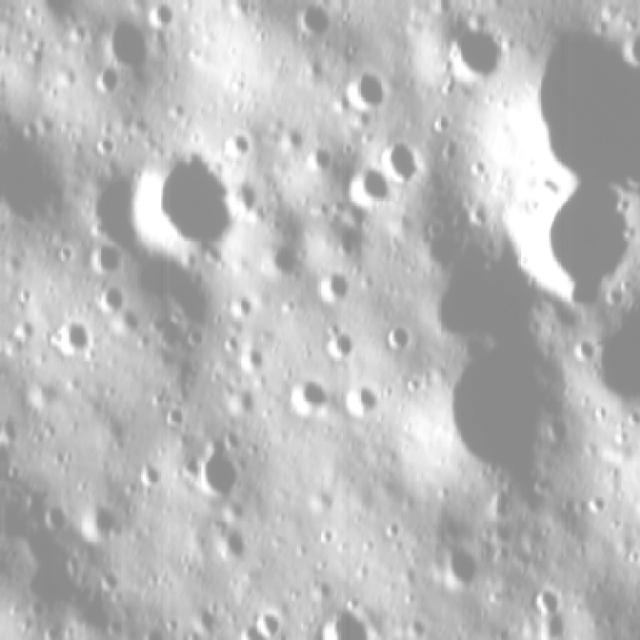crater: (433, 337, 564, 489), (518, 22, 636, 172), (516, 176, 635, 296), (131, 154, 235, 263), (72, 158, 143, 242), (444, 24, 504, 84), (189, 441, 240, 499), (101, 12, 150, 68), (343, 159, 392, 206), (376, 134, 418, 188), (284, 374, 334, 418), (45, 314, 93, 358), (437, 541, 480, 587), (342, 66, 384, 111), (318, 320, 356, 368), (261, 232, 299, 277), (225, 177, 262, 223), (78, 500, 119, 538), (84, 241, 127, 276), (292, 0, 330, 37), (214, 523, 252, 560), (91, 57, 124, 95), (344, 381, 378, 416), (317, 268, 348, 306), (252, 606, 288, 637), (528, 583, 562, 615), (134, 455, 164, 490), (222, 124, 250, 161), (96, 281, 127, 313), (145, 3, 177, 32), (220, 289, 252, 317), (234, 344, 263, 374), (222, 384, 252, 413), (583, 488, 611, 518), (570, 332, 596, 362), (384, 323, 411, 346), (162, 401, 184, 425)
